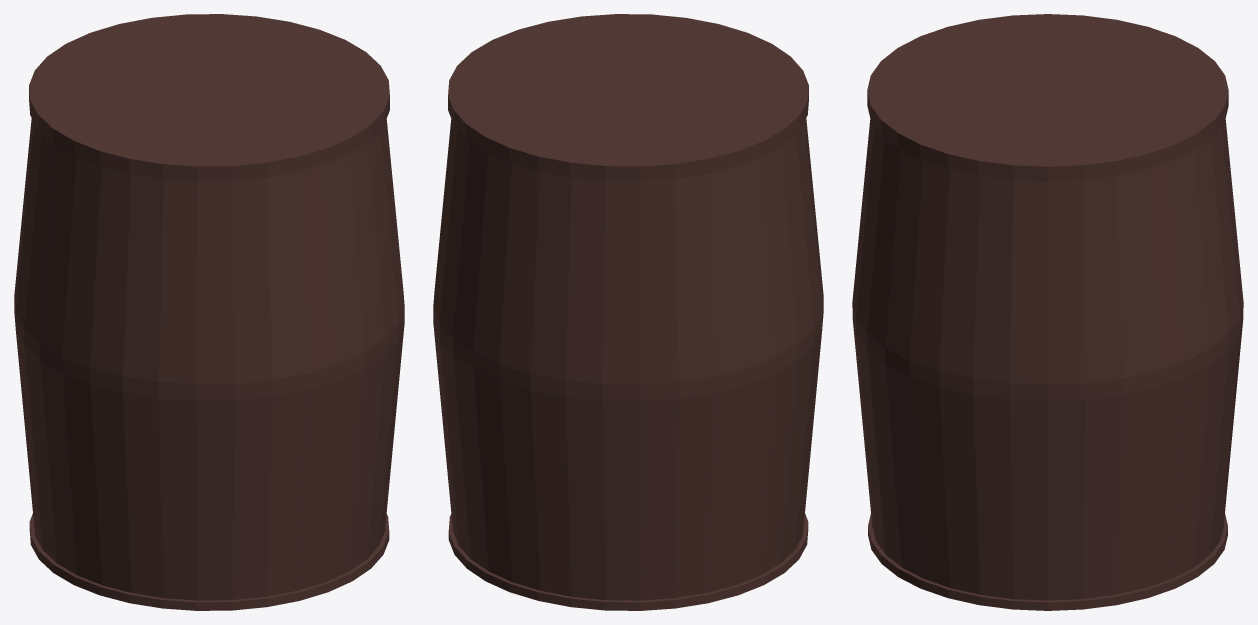
File: barrel.glb
3 views of the same model, side by side, from view 1: azimuth 30°, elevation 25°; view 2: azimuth 150°, elevation 25°; view 3: azimuth 270°, elevation 25° (orthographic).
Parts seen in each view (by area): view 1: barrel1; view 2: barrel1; view 3: barrel1.
Boxes of the visible parts, bbox=[...] form: barrel1: bbox=[14, 14, 404, 610]; barrel1: bbox=[433, 14, 823, 610]; barrel1: bbox=[852, 14, 1243, 610].
Bounding box in the file's own units: 0.4527 × 0.5677 × 0.4527.
